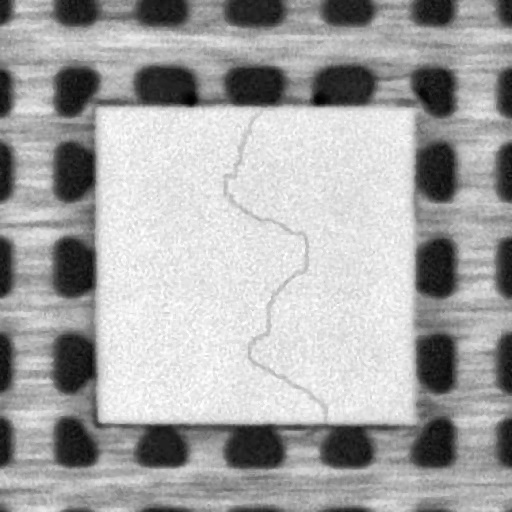DIE_CRACK: (224, 107, 326, 424)
